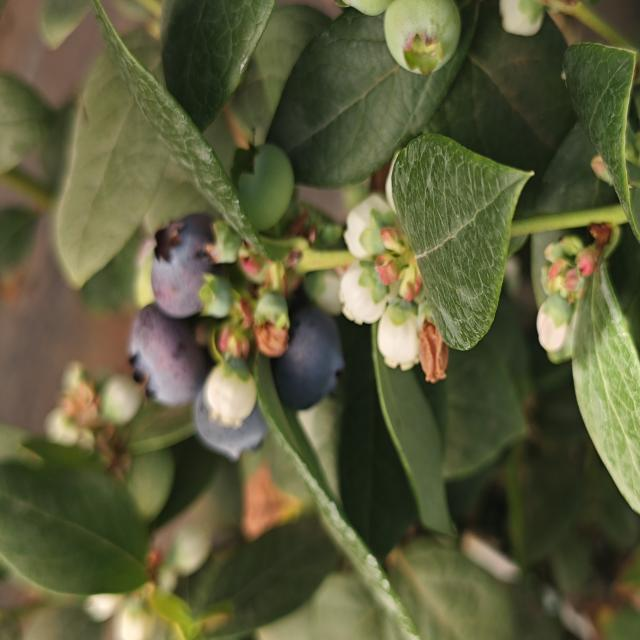ripe: (125, 301, 208, 410), (270, 302, 348, 414), (147, 210, 221, 322), (191, 374, 272, 463)
